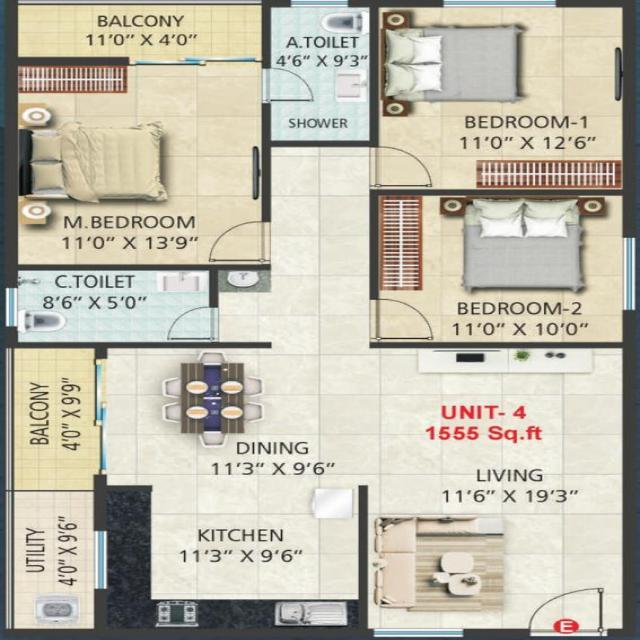Balcony-Sitout: (1, 0, 271, 62), (1, 347, 104, 495)
Bedroom: (372, 4, 638, 196), (371, 189, 637, 348)
Bedroom with Toilet: (0, 56, 271, 347)
Dining: (161, 348, 265, 455)
Enterance-Foyer: (528, 584, 607, 635)
Kitchen: (95, 482, 372, 639)
Living: (366, 341, 638, 638)
Toilet: (4, 267, 220, 348), (262, 5, 381, 147)
Utility: (0, 493, 110, 640)
